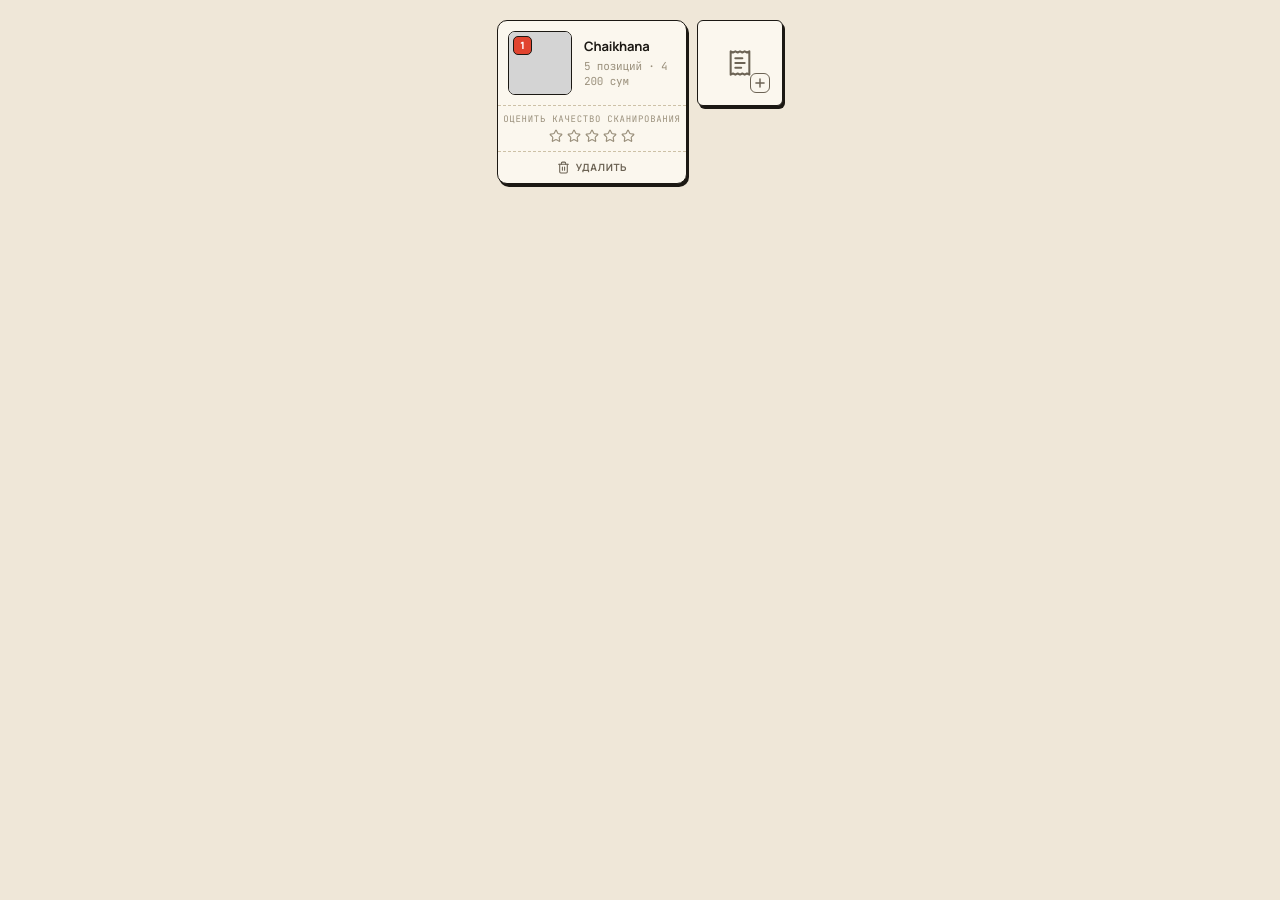
Test case: ReceiptsSection › asks what should happen to the items before deleting
Later steps or results of the test are not shown.
Click the button "Удалить" at {"x": 592, "y": 168}, box [498,152,686,183]
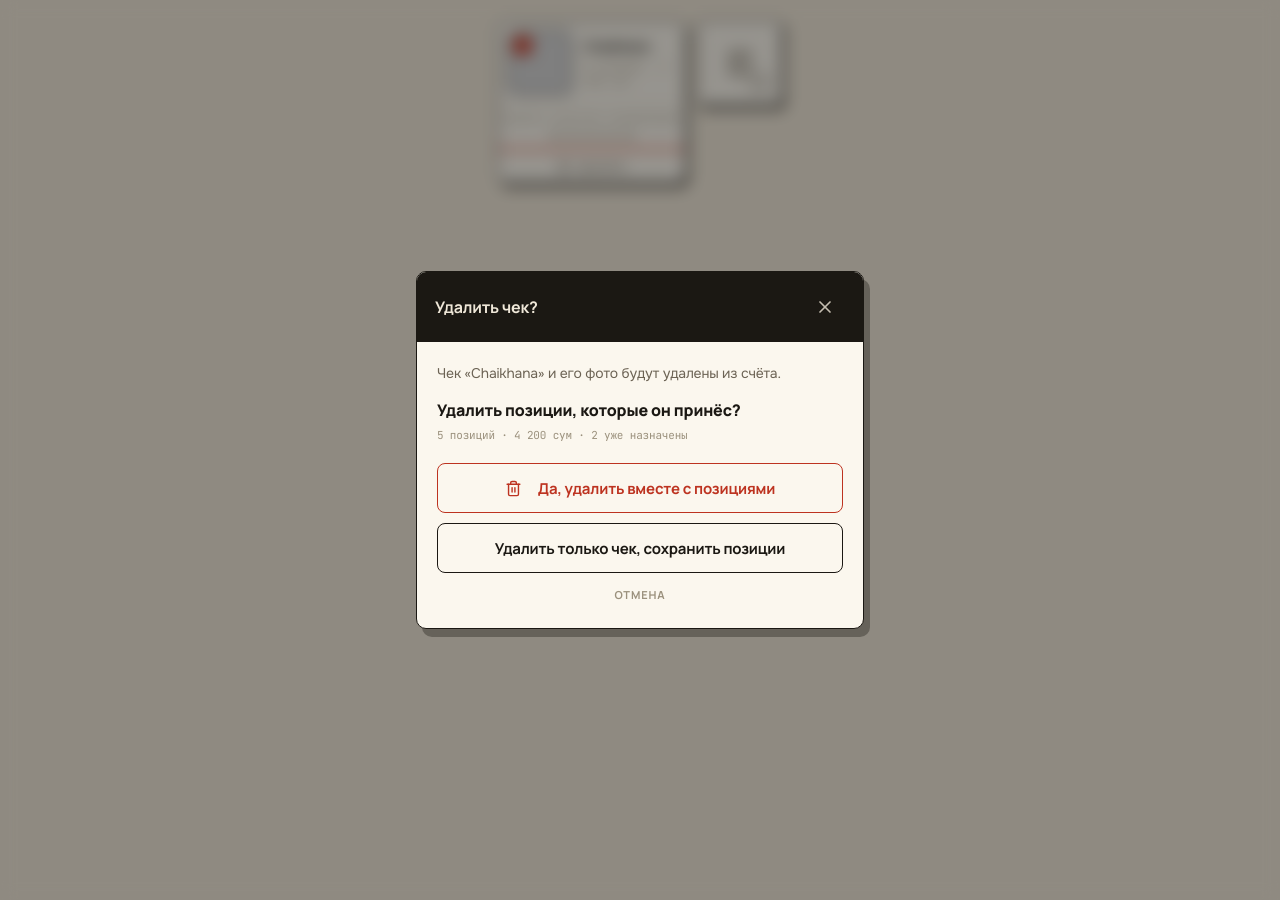
Check: the text "Удалить позиции, которые он принёс?" is shown, box [437,399,741,421]
Check: the text "5 позиций · 4 200 сум · 2 уже назначены" is shown, box [437,428,688,442]
